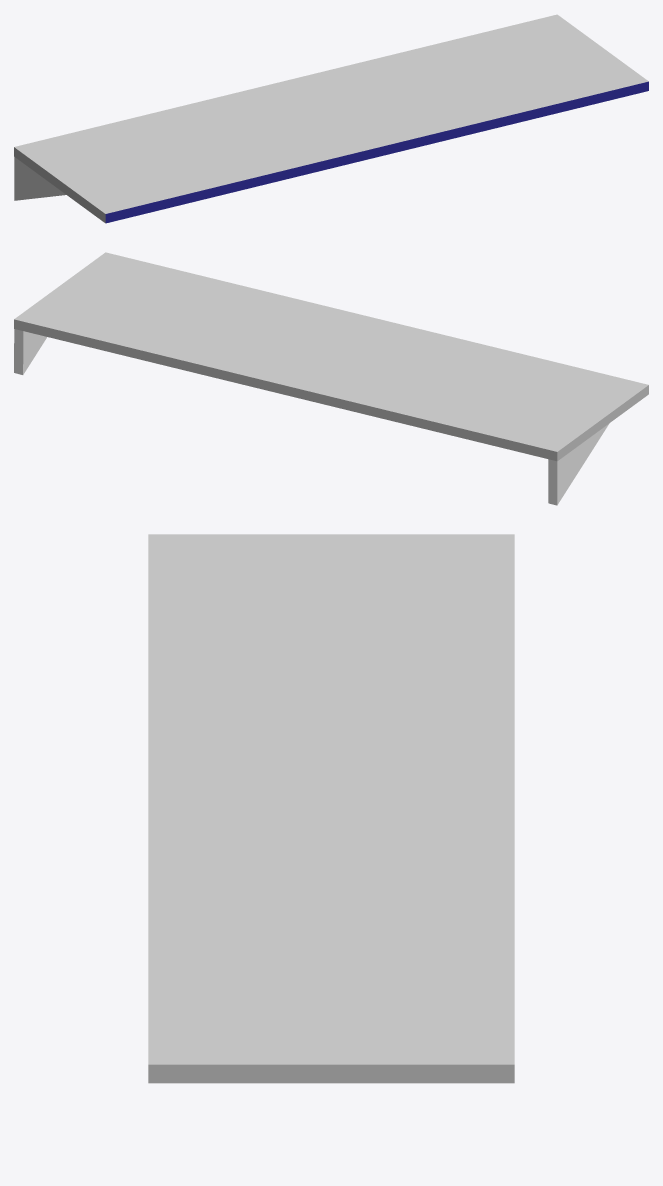
Rendered from balda.glb.
The picture shows the model from 3 angles, top to bottom: view 1: azimuth 30°, elevation 25°; view 2: azimuth 150°, elevation 25°; view 3: azimuth 270°, elevation 25°; orthographic projection. The views are drawn at different scales.
Visible parts, largest first — view 1: Cubo.001_0, Cubo.001_1, soporte001; view 2: Cubo.001_0, soporte001, soporte; view 3: Cubo.001_0.
Boxes of the visible parts, bbox=[...] form: Cubo.001_0: bbox=[14, 14, 648, 223]; Cubo.001_1: bbox=[105, 81, 648, 223]; soporte001: bbox=[14, 157, 65, 200]; Cubo.001_0: bbox=[14, 252, 648, 461]; soporte001: bbox=[548, 423, 609, 505]; soporte: bbox=[14, 329, 46, 374]; Cubo.001_0: bbox=[148, 534, 514, 1083].
Bounding box in the file's own units: 33.7 × 3.19 × 9.84.
